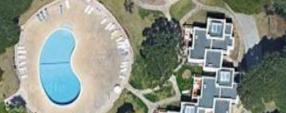pool: (38, 27, 82, 106)
